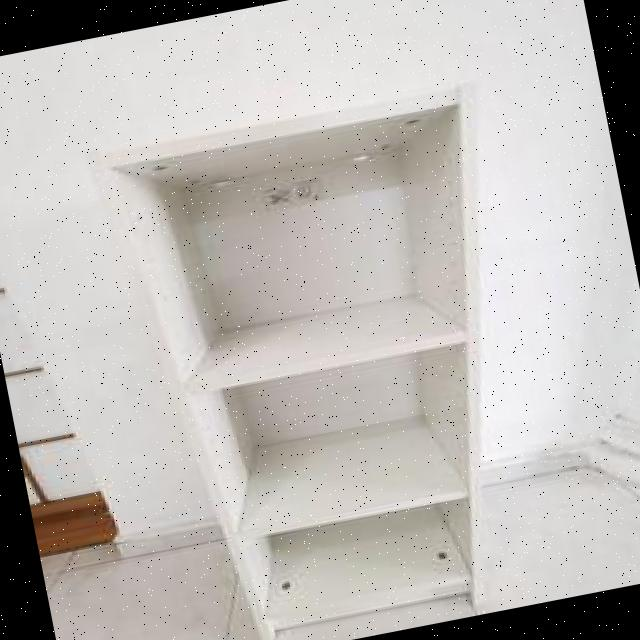Shelf: (75, 61, 584, 640)
